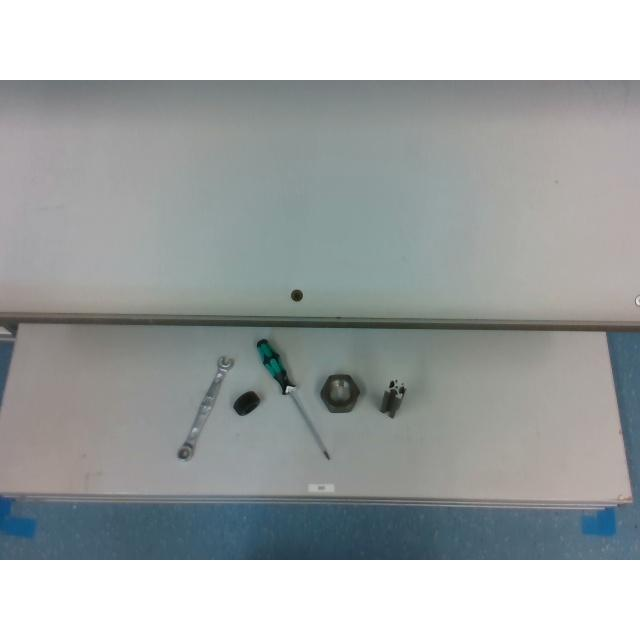F20_20_B: (379, 379, 405, 416)
M20: (232, 391, 260, 415)
M30: (321, 374, 359, 412)
Screwdriver: (256, 338, 332, 460)
Wrench: (178, 356, 235, 460)
